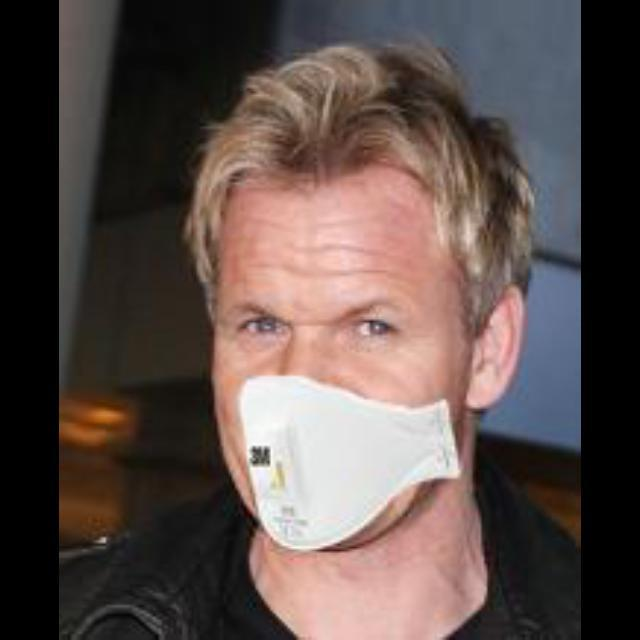suspicion: (211, 87, 489, 568)
